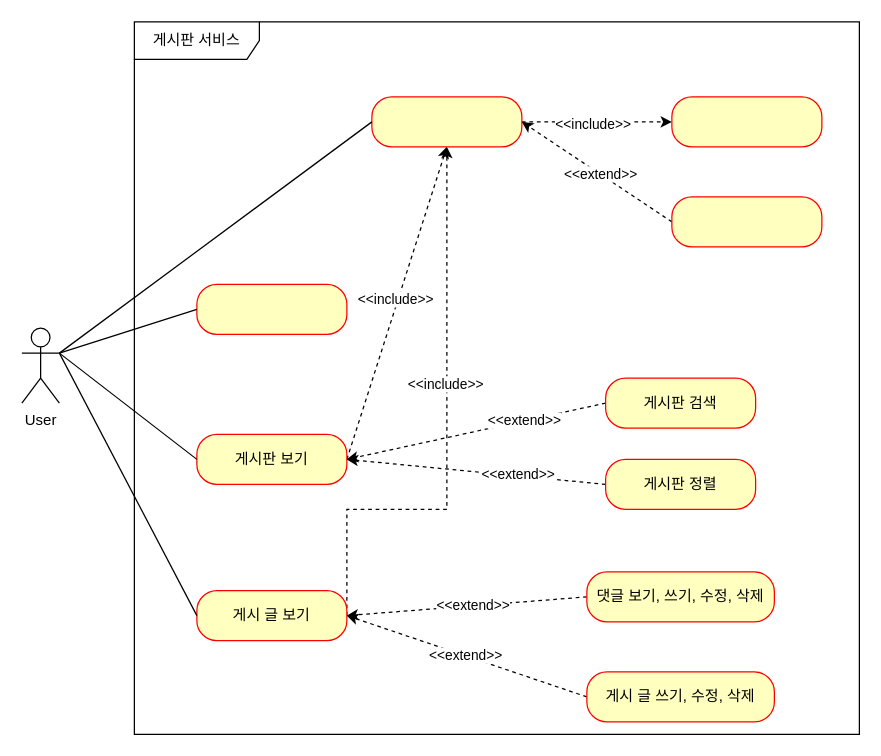
Image size: 881x756. Some labels were removed from this diagram. Here are the shapes that lost their labels. From the top down, the box of each, then its label:
(371, 96, 522, 147): 로그인
(671, 96, 822, 147): 인증
(671, 196, 822, 247): 로그인 실패
(196, 283, 347, 334): 회원 가입
